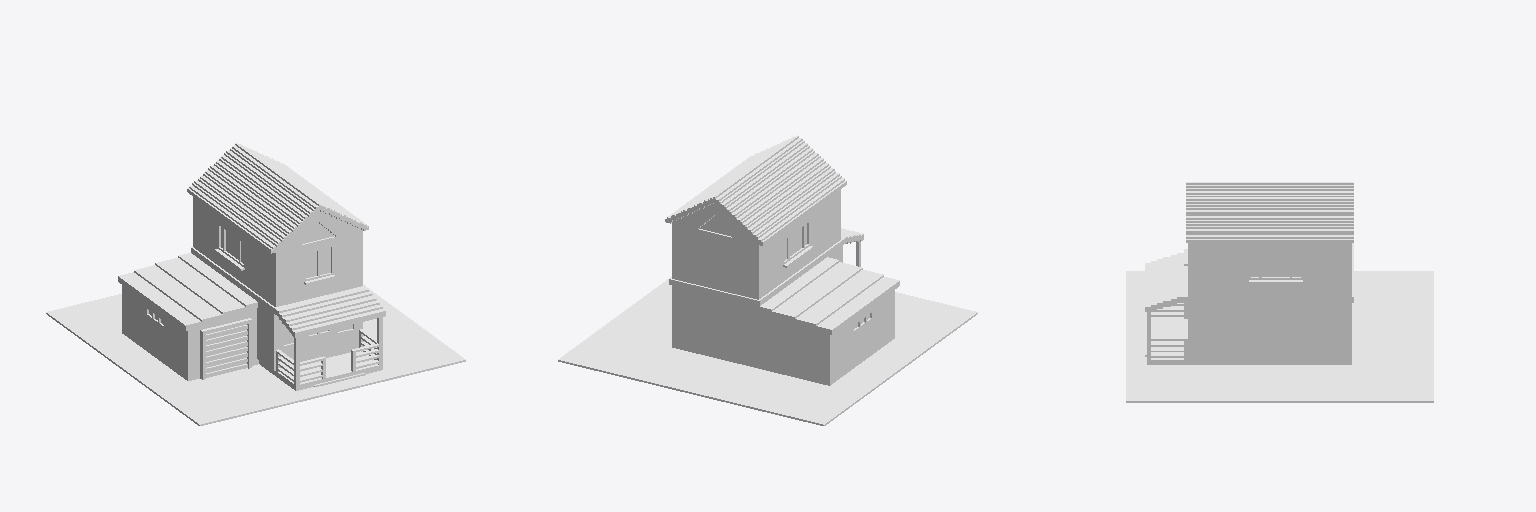
The model's file is Small_home_1.4.obj.
3 views of the same model, side by side, from view 1: azimuth 30°, elevation 25°; view 2: azimuth 150°, elevation 25°; view 3: azimuth 270°, elevation 25° (orthographic).
Parts seen in each view (by area): view 1: object 1; view 2: object 1; view 3: object 1.
Part boxes in pixels (left/top/right/bottom): object 1: left=46, top=143, right=465, bottom=425; object 1: left=558, top=135, right=977, bottom=425; object 1: left=1126, top=182, right=1433, bottom=402.
Bounding box in the file's own units: 15 × 8.8 × 15.